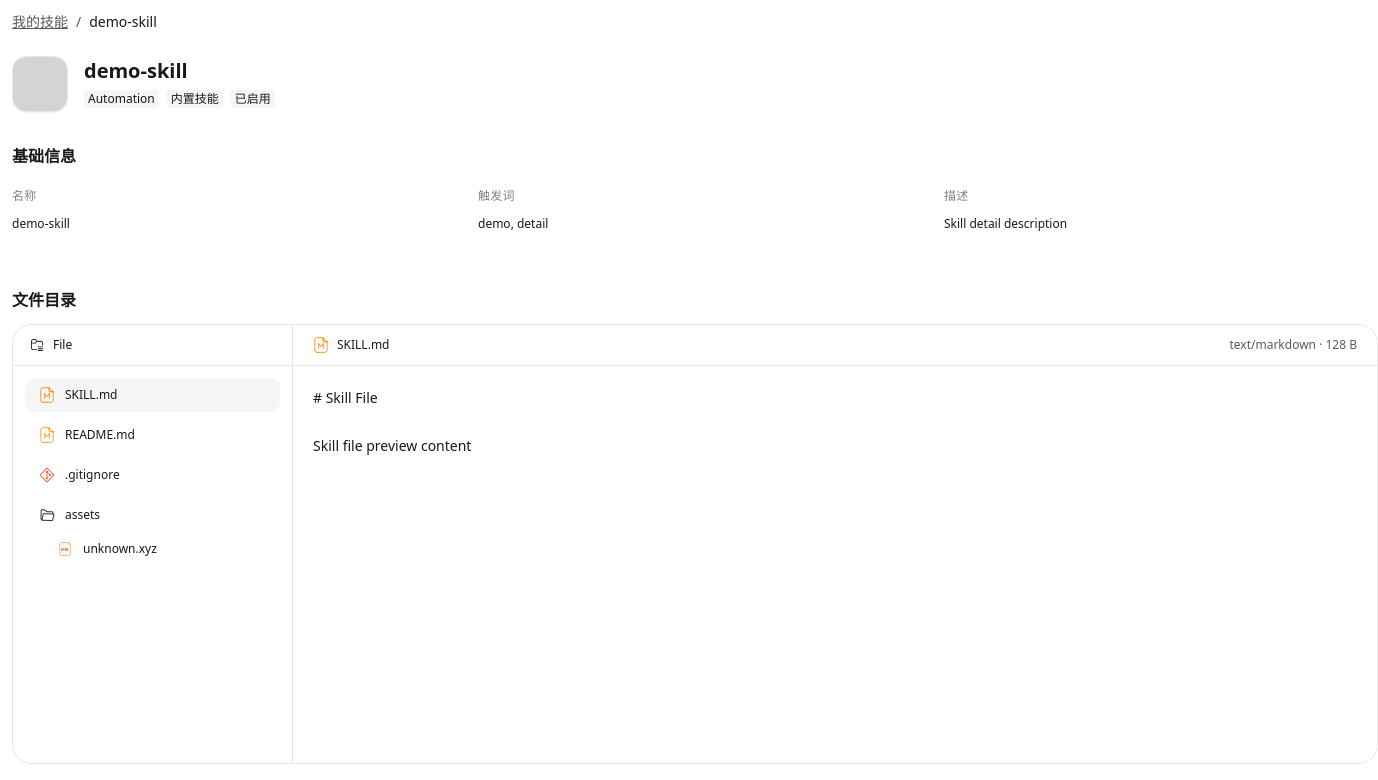
Test: SkillDetailView › requests file preview when clicking another file in the tree
Click the button "README.md": [152, 435] box [25,418,280,452]
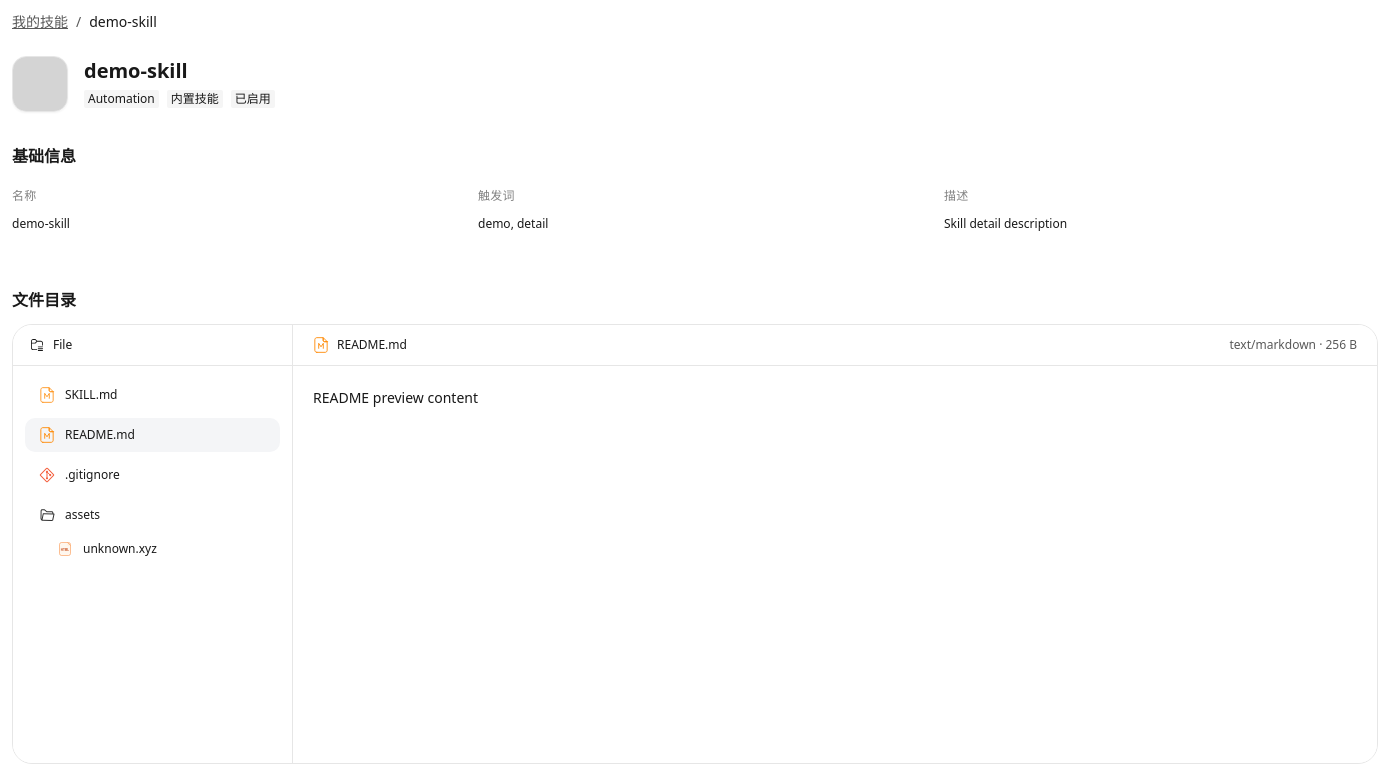
Expected: the element with test id "skill-detail-file-preview" reads "README preview content", [313,388,478,407]
